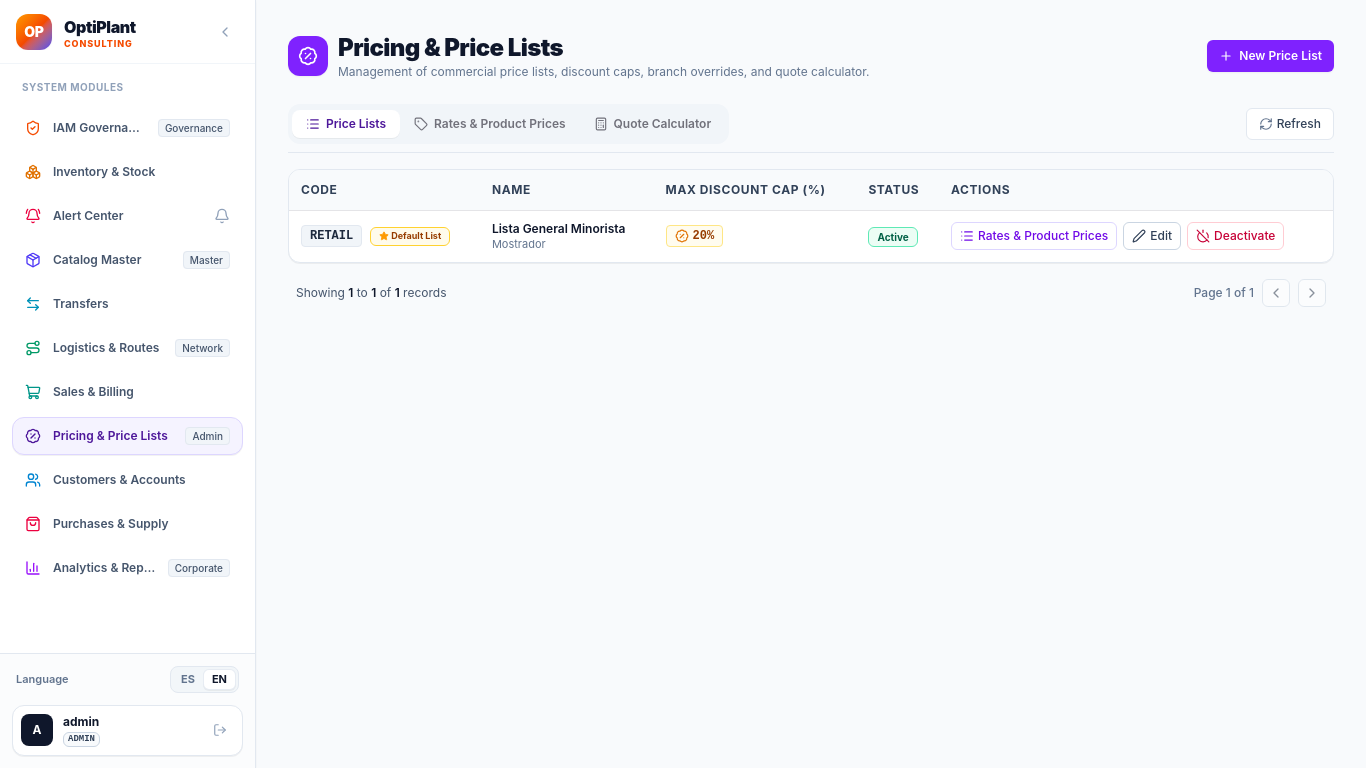
Test: PricingDashboard Component Tests › switches to quote simulator tab and calculates real-time quote
Click the tab "Quote Calculator".
click(652, 124)  # box [580,110,725,138]
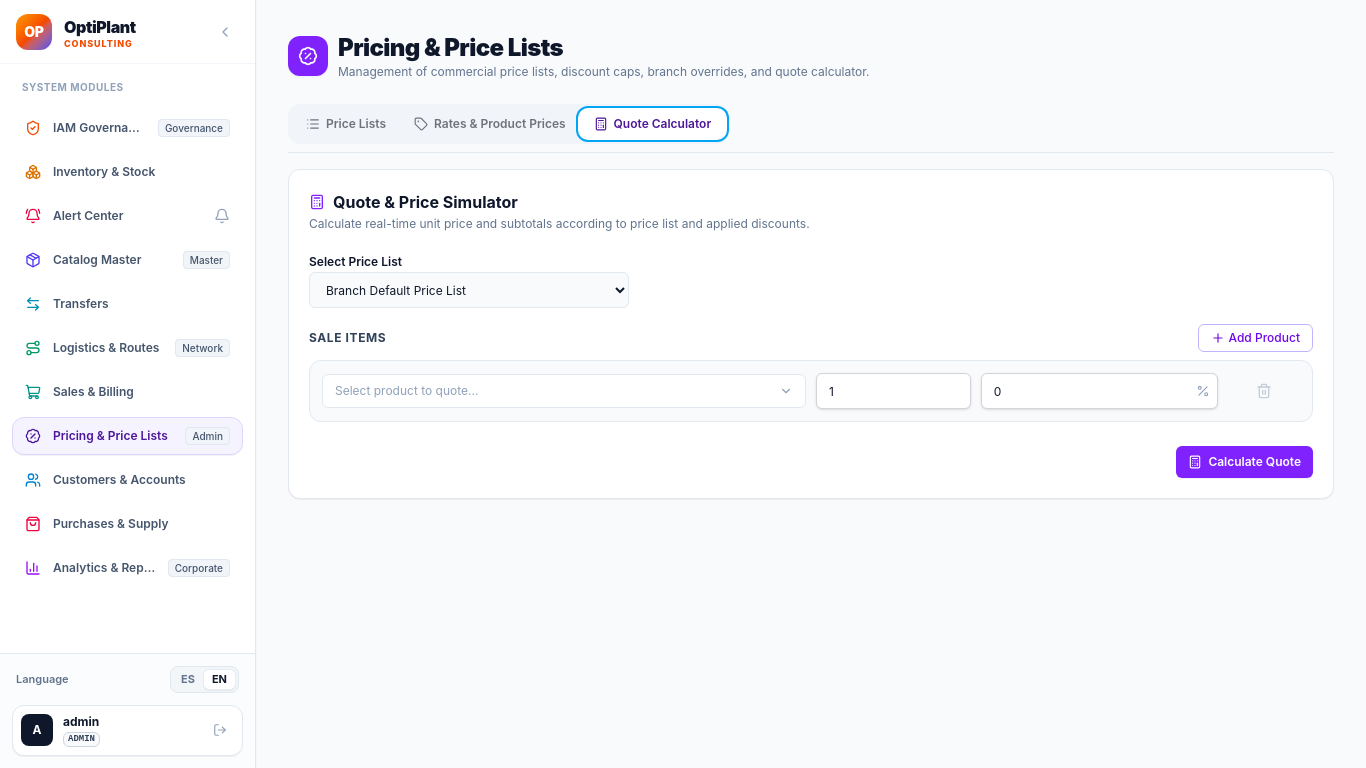
Check: the text "Calculate real-time unit price" is shown, box [309,216,810,231]
Click the button "Select product to quote...".
click(407, 390)  # box [322,374,806,408]
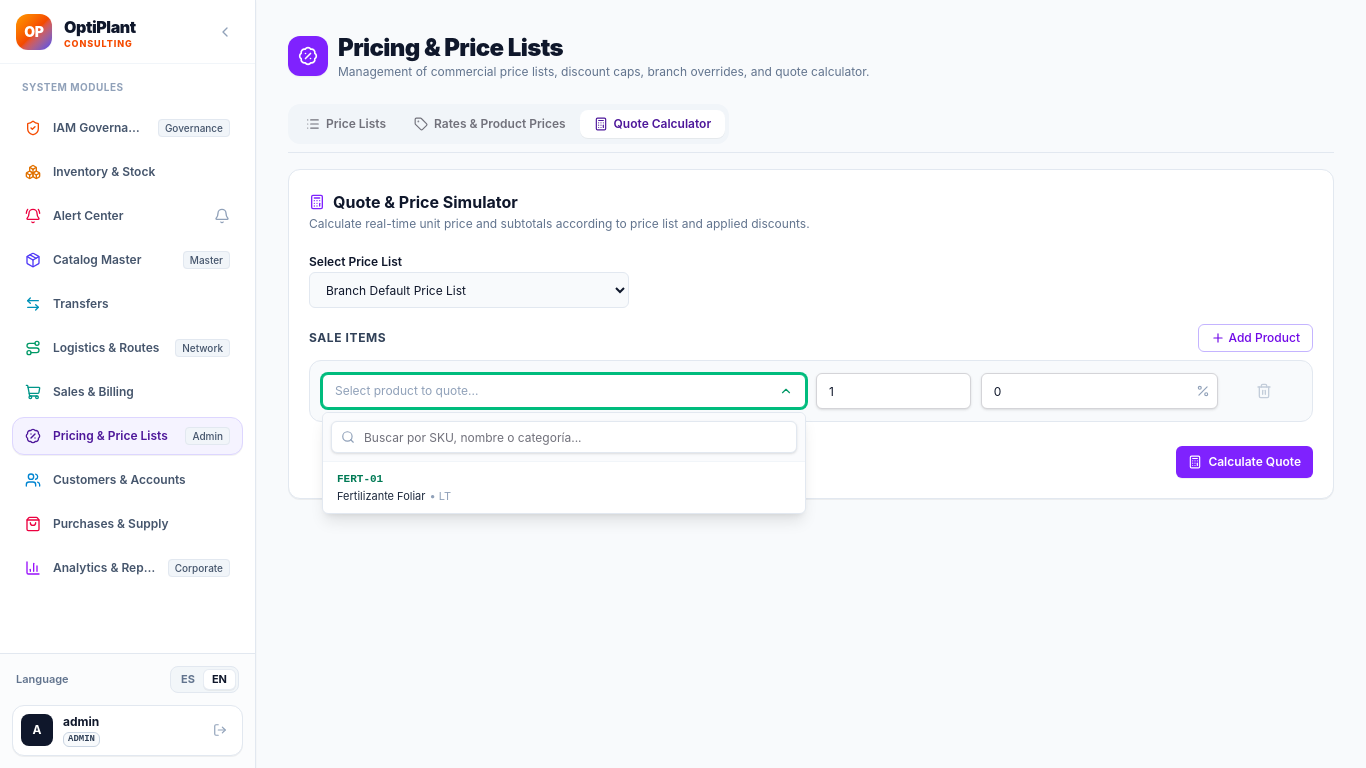
Click the text "Fertilizante Foliar".
click(394, 496)  # box [337,489,451,503]
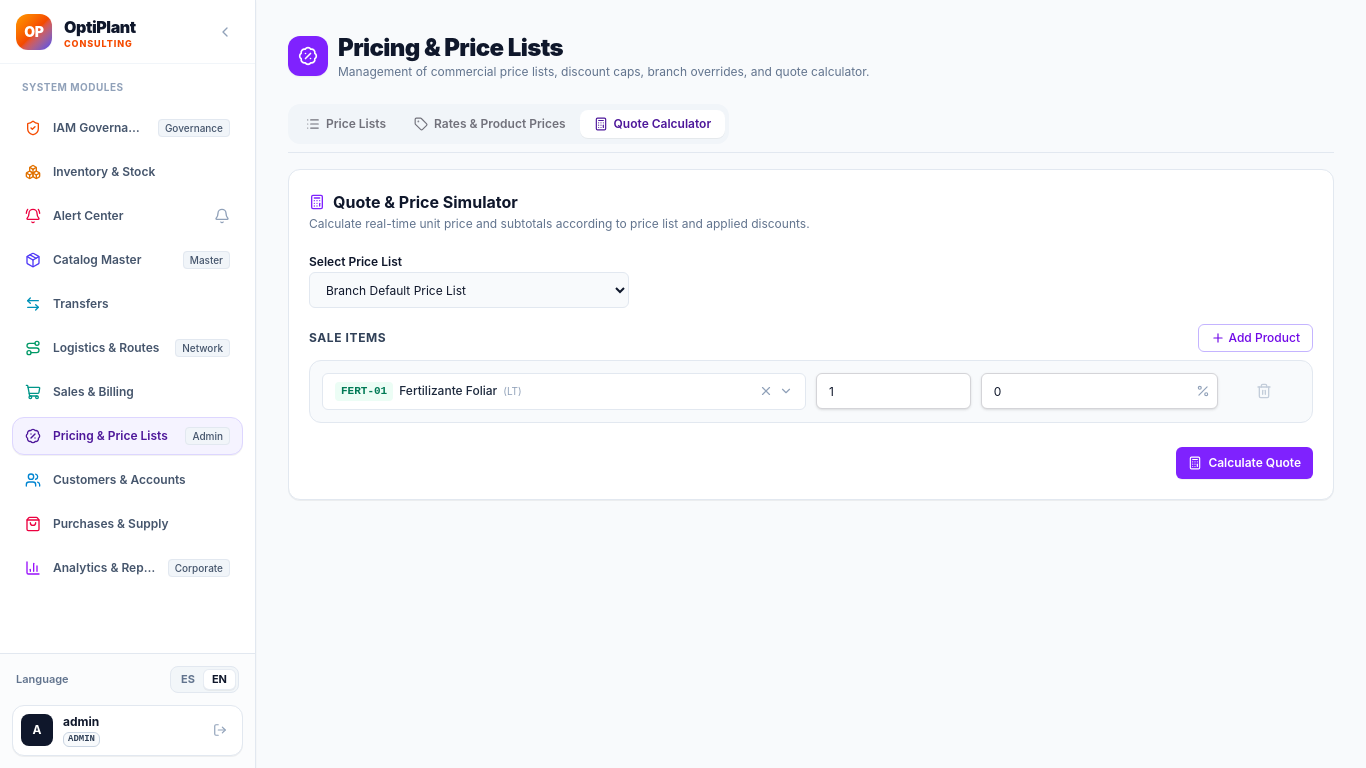
Click the button "Calculate Quote".
click(1245, 463)  # box [1176,447,1313,479]
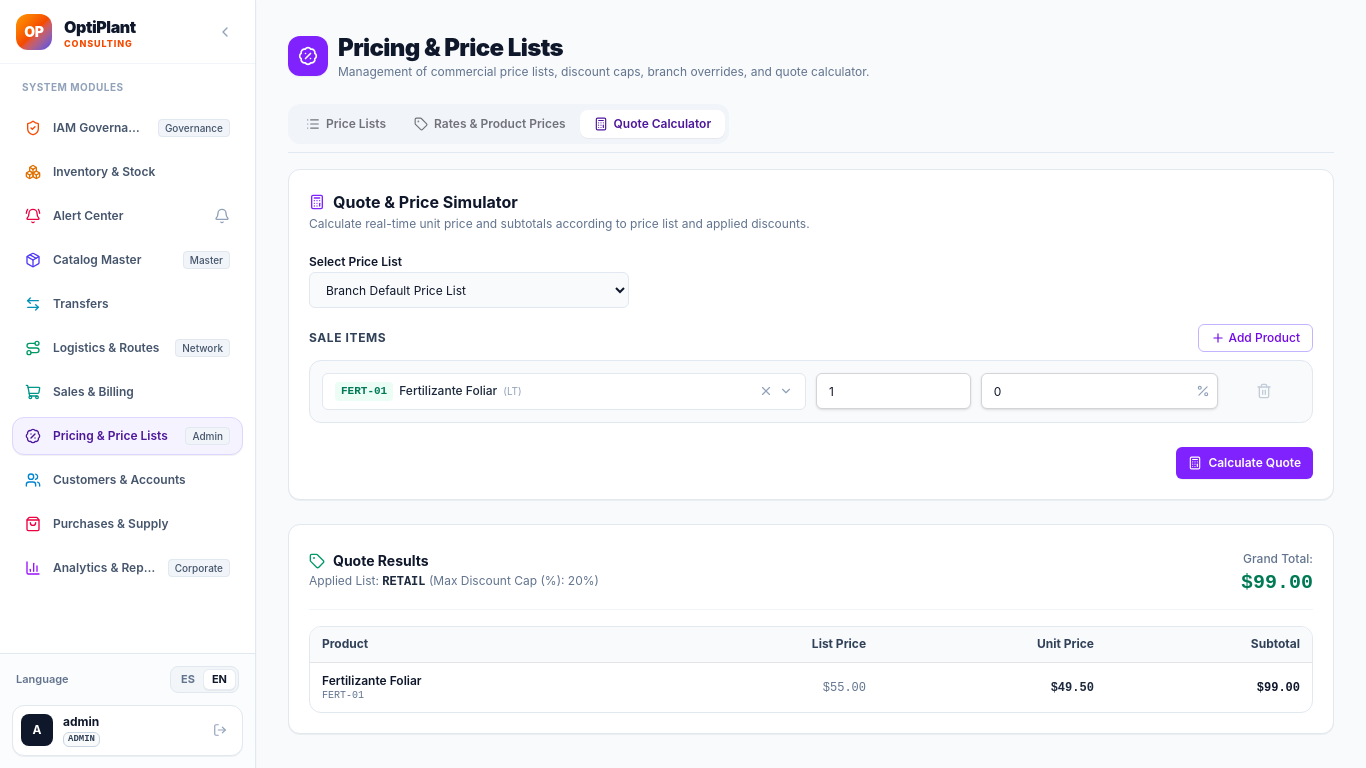
Check: the text "$99.00" is shown, box [1241,569,1313,597]
